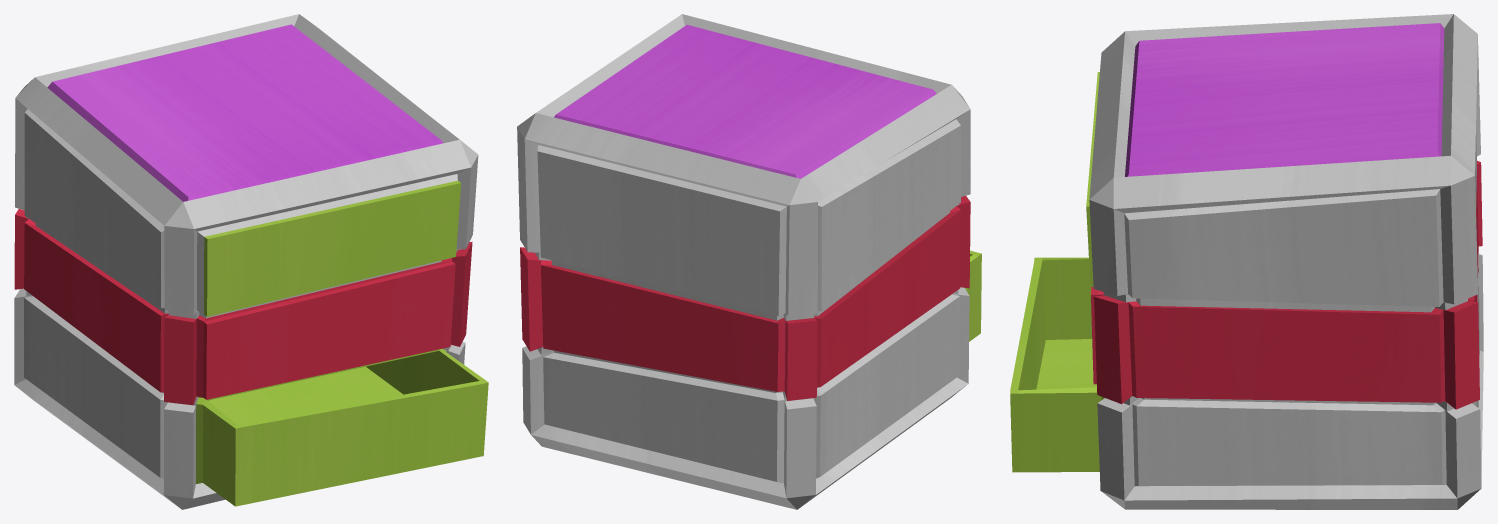
Rendered from SideTable.fbx.
The picture shows the model from 3 angles, left to right: view 1: azimuth 30°, elevation 25°; view 2: azimuth 150°, elevation 25°; view 3: azimuth 270°, elevation 25°; orthographic projection. The views are drawn at different scales.
Visible parts, largest first — view 1: SideTable; view 2: SideTable; view 3: SideTable.
Part boxes in pixels (bbox=[...]): SideTable: bbox=[14, 14, 488, 509]; SideTable: bbox=[517, 14, 981, 509]; SideTable: bbox=[1010, 14, 1483, 509].
Bounding box in the file's own units: 80 × 80.49 × 96.22.
